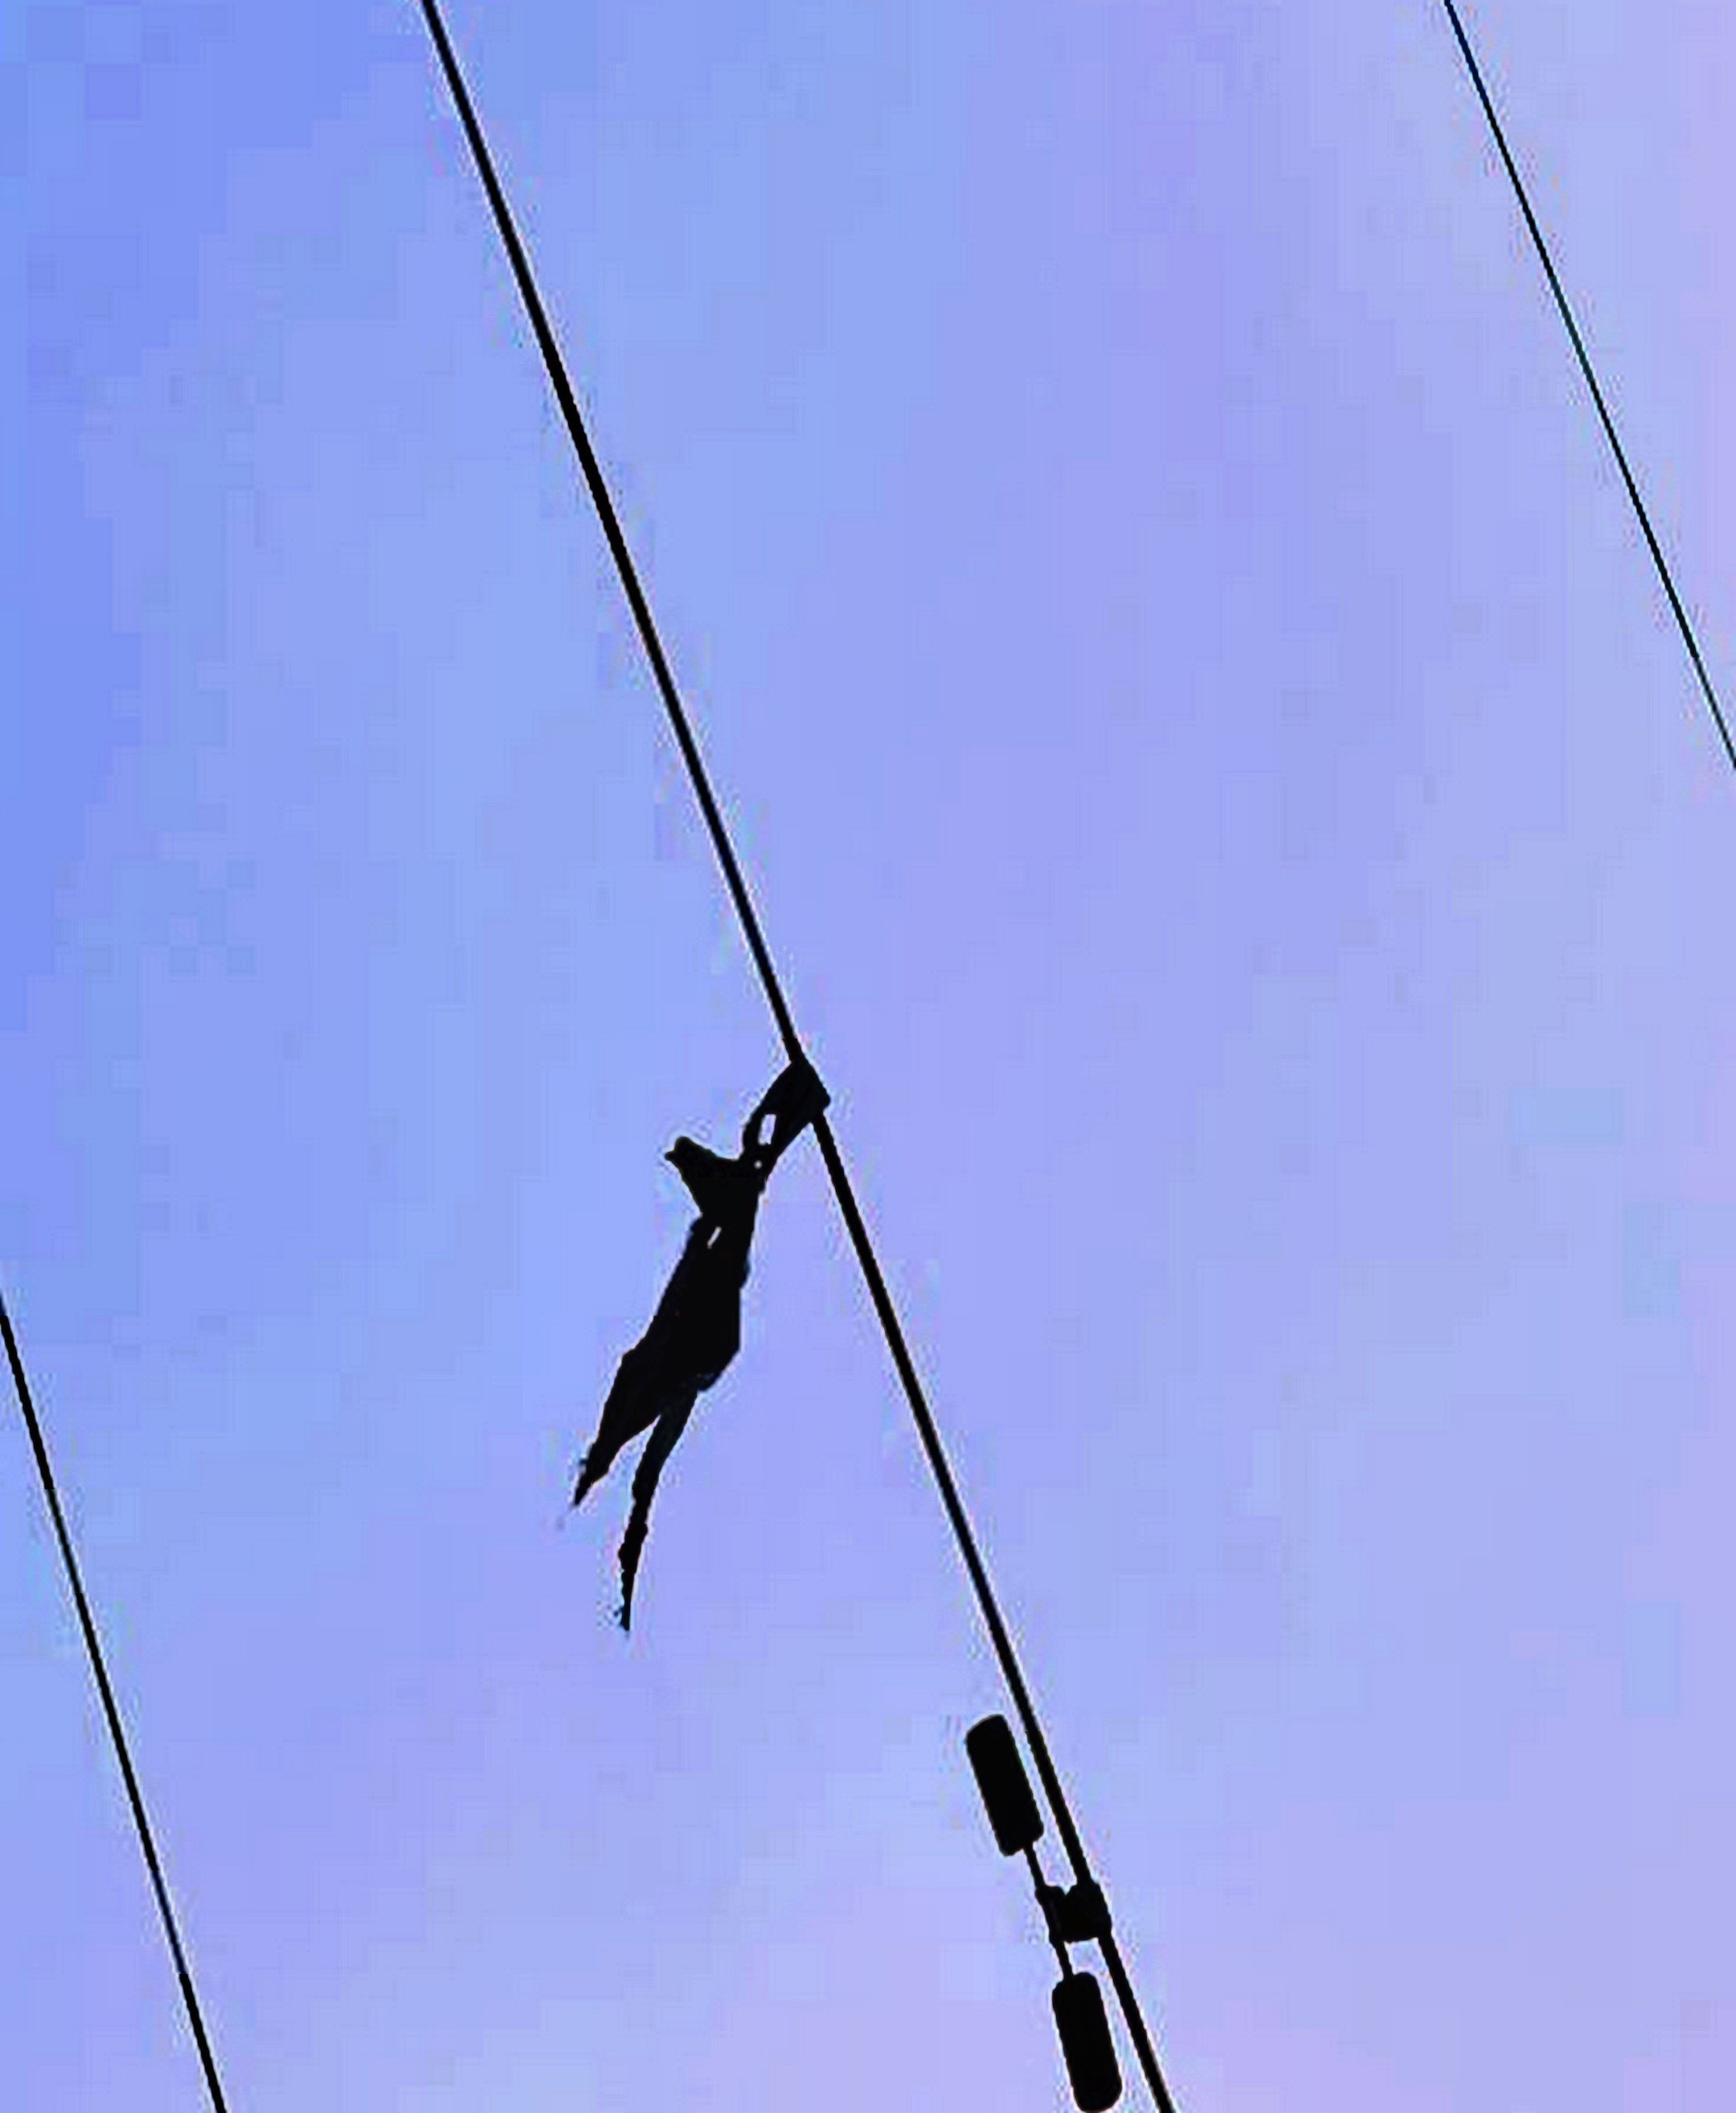wire foreign body: (567, 1023, 878, 1629)
